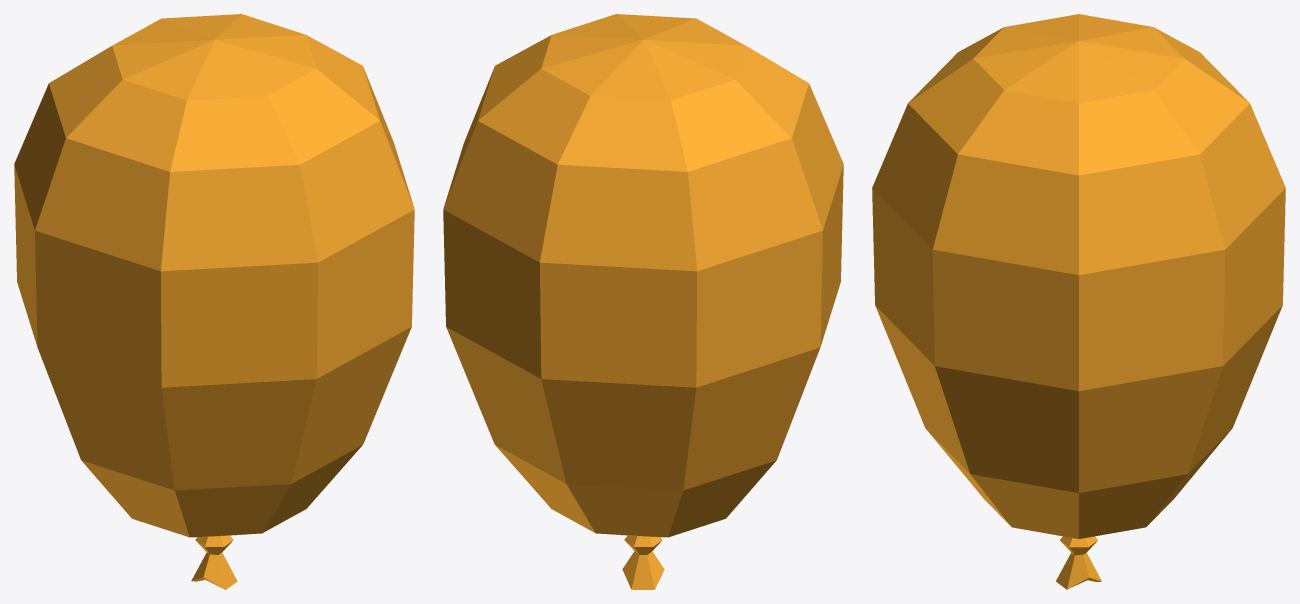
File: SM_Balloon_Small_Stars.fbx
3 renders of one model, left to right at view 1: azimuth 30°, elevation 25°; view 2: azimuth 150°, elevation 25°; view 3: azimuth 270°, elevation 25°, orthographic.
Parts seen in each view (by area): view 1: balloon-small-stars; view 2: balloon-small-stars; view 3: balloon-small-stars.
Boxes of the visible parts, <box> form: balloon-small-stars: <box>14,14,414,589</box>; balloon-small-stars: <box>443,14,843,589</box>; balloon-small-stars: <box>872,14,1285,589</box>.
Bounding box in the file's own units: 0.2621 × 0.3781 × 0.2621.
